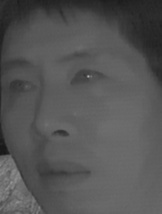eye: (68, 67, 108, 90), (4, 75, 37, 98)
mouth: (33, 155, 92, 192)
